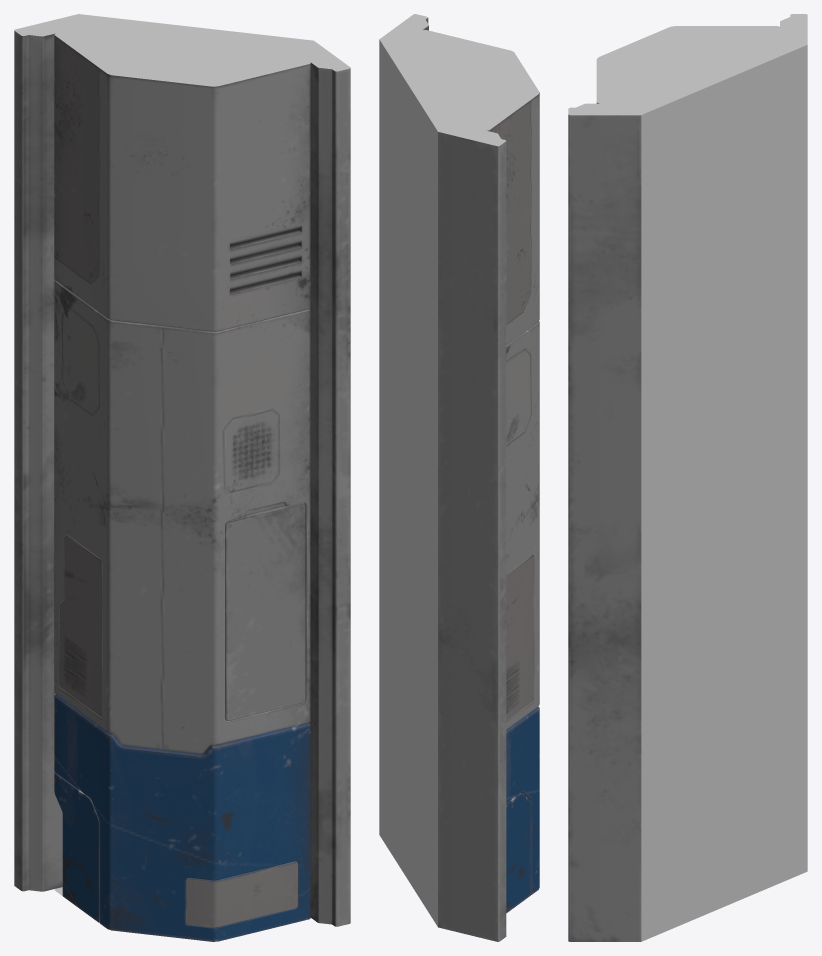
The model's file is SM_CorridorWall0Corner.fbx.
The picture shows the model from 3 angles, left to right: view 1: azimuth 30°, elevation 25°; view 2: azimuth 150°, elevation 25°; view 3: azimuth 270°, elevation 25°; orthographic projection. The views are drawn at different scales.
Parts seen in each view (by area): view 1: SM_CorridorWall0Corner_LOD0; view 2: SM_CorridorWall0Corner_LOD0; view 3: SM_CorridorWall0Corner_LOD0.
Boxes of the visible parts, x1,y1,x2,y2 form: SM_CorridorWall0Corner_LOD0: [14, 14, 350, 941]; SM_CorridorWall0Corner_LOD0: [379, 14, 539, 941]; SM_CorridorWall0Corner_LOD0: [568, 14, 807, 941].
Bounding box in the file's own units: 100 × 100 × 382.
2 materials, 1 textured.
